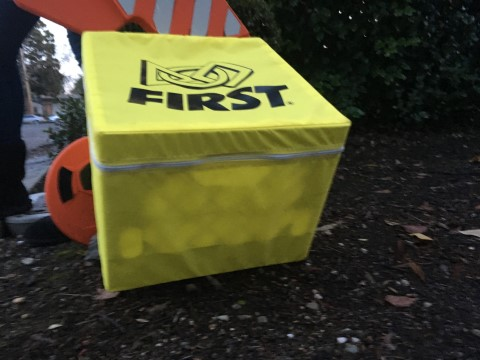cube: (80, 30, 352, 293)
